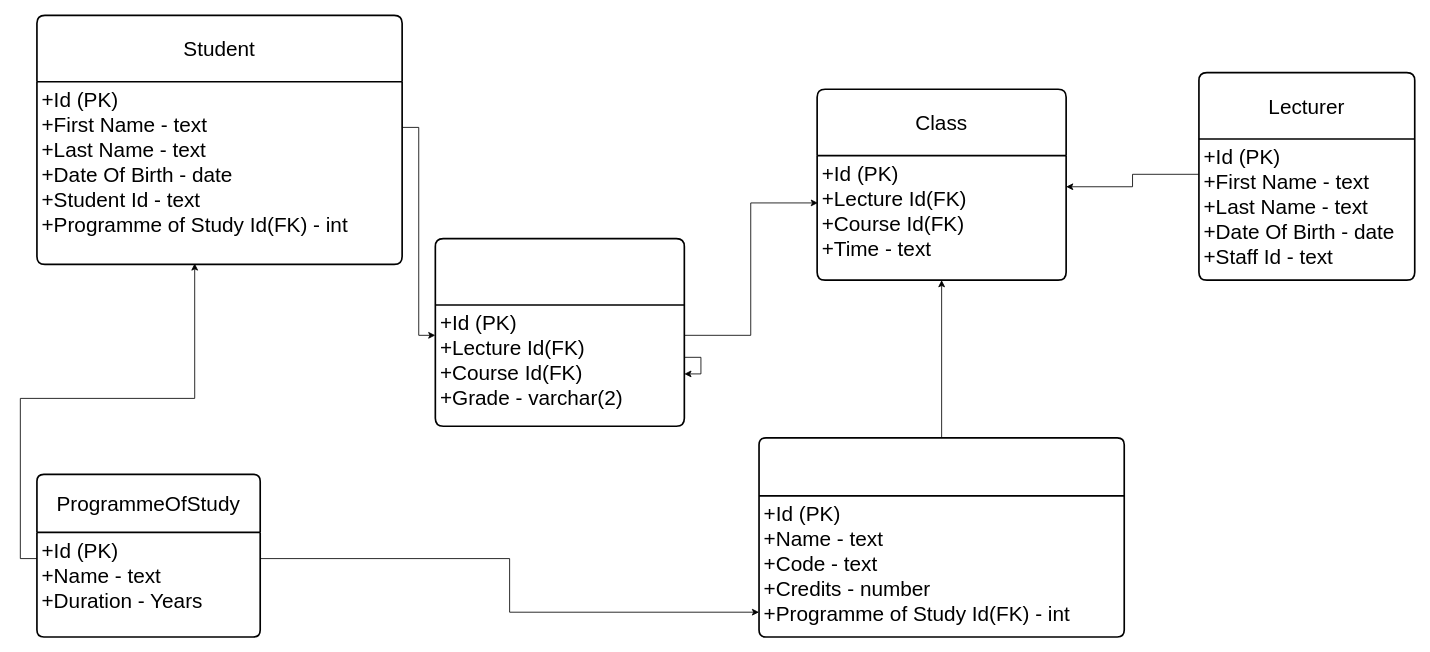
Image size: 1430x652. Some labels were removed from this diagram. The shapes that lost their labels are listed below. From the top down, each one's box as (x1, y1, x2, y2) in pixels, then its label:
(434, 237, 685, 427): Enrollment
(758, 437, 1125, 637): Course
